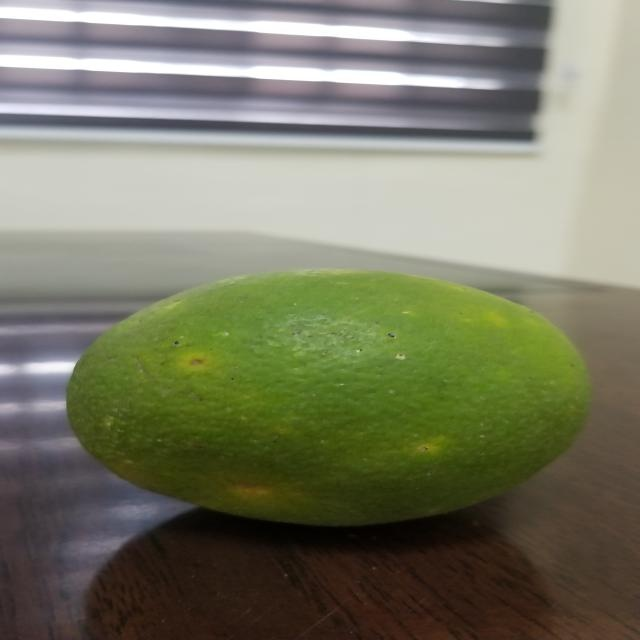agrume: (66, 252, 630, 527)
